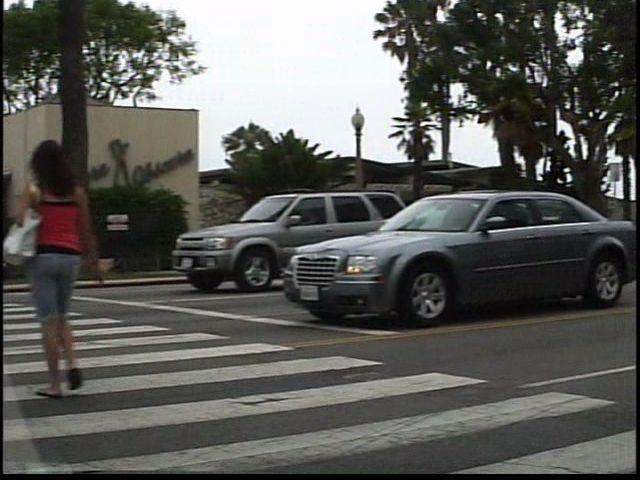person: (38, 138, 125, 406)
